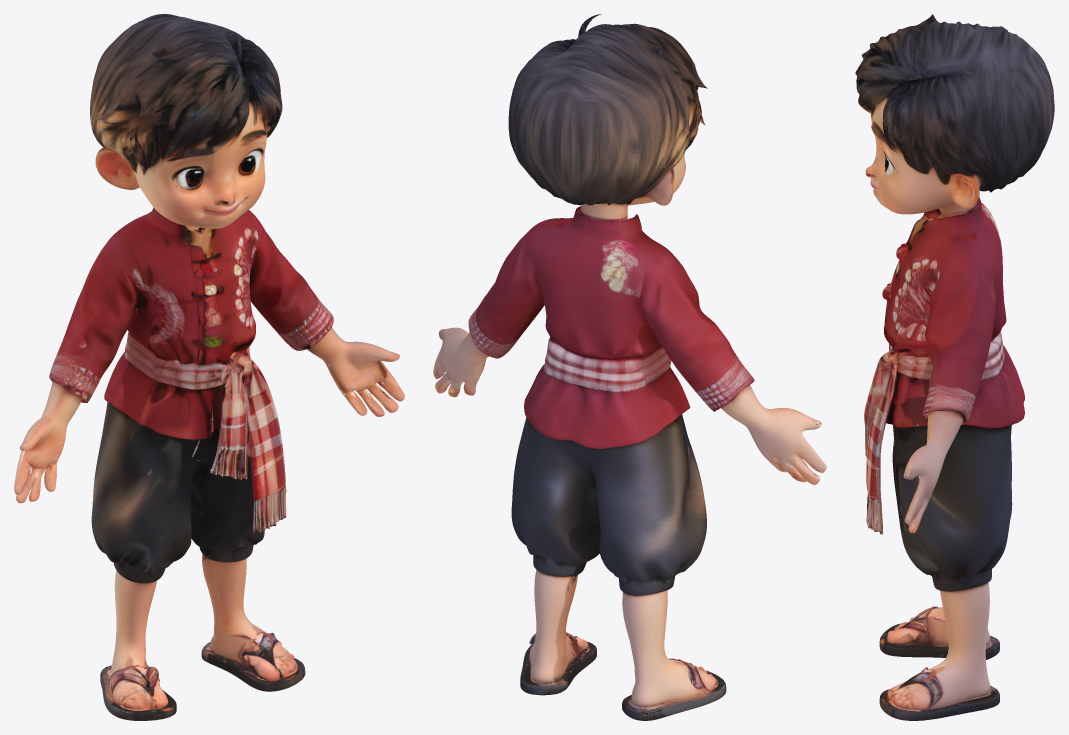
The model's file is player.glb.glb.
The picture shows the model from 3 angles, left to right: view 1: azimuth 30°, elevation 25°; view 2: azimuth 150°, elevation 25°; view 3: azimuth 270°, elevation 25°; orthographic projection.
Parts seen in each view (by area): view 1: model; view 2: model; view 3: model.
Boxes of the visible parts, bbox=[...] form: model: bbox=[14, 14, 404, 720]; model: bbox=[433, 14, 826, 720]; model: bbox=[855, 14, 1054, 720].
Bounding box in the file's own units: 1.18 × 1.9 × 0.5265.
Materials: 1 (1 with a texture image).
